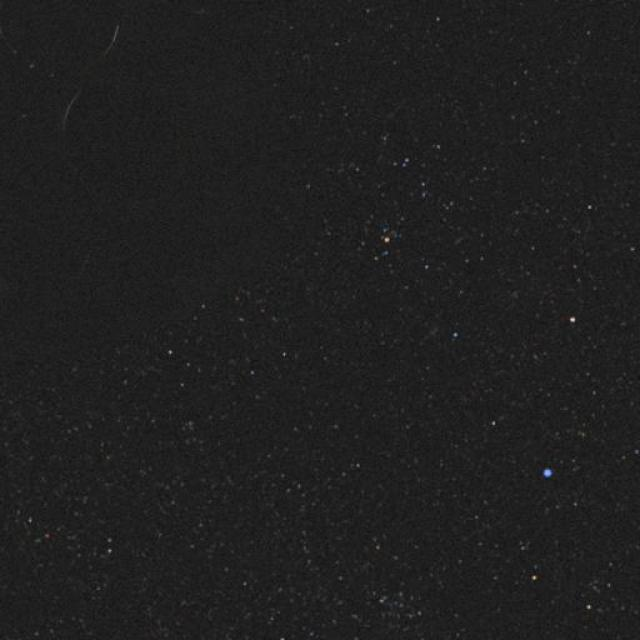cheops: (0, 0, 206, 128)
